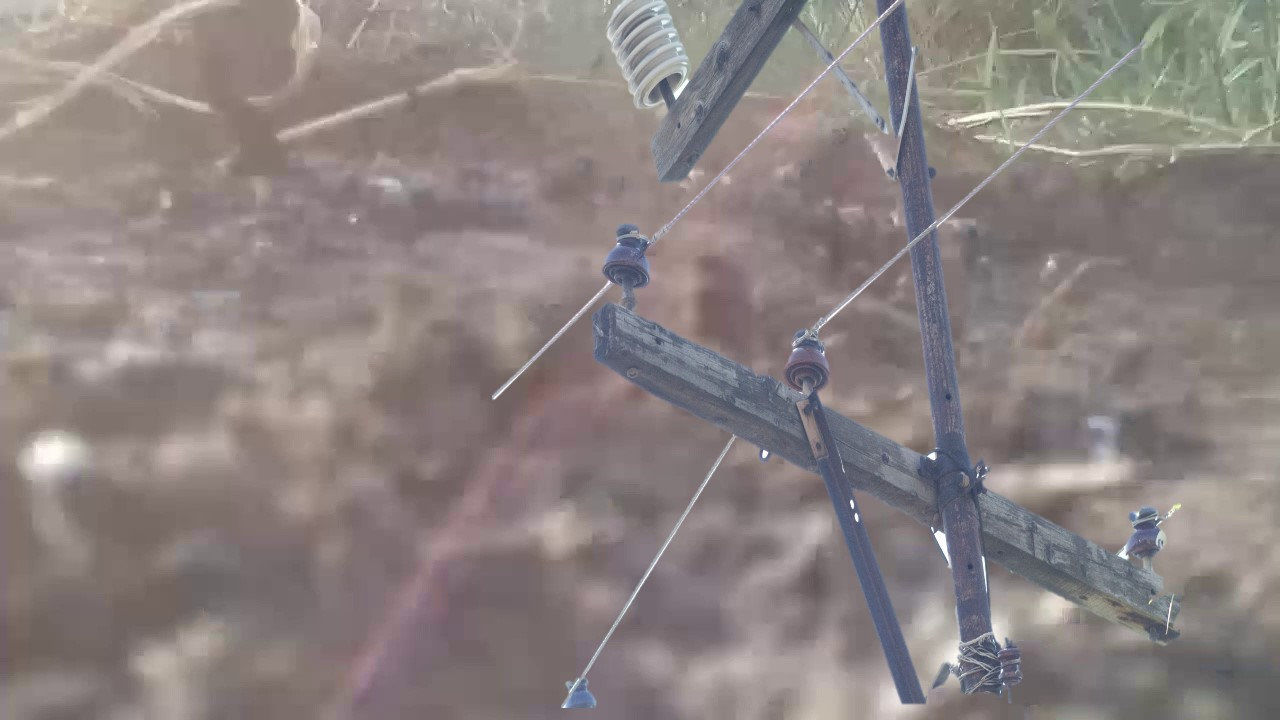defect_pin: (1123, 500, 1171, 561)
insulator_pin: (601, 218, 656, 293), (778, 326, 834, 394)
